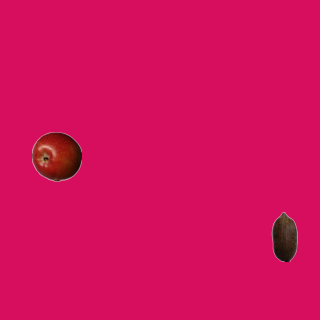Apple Braeburn: (31, 131, 81, 181)
Nut Pecan: (259, 211, 309, 261)
